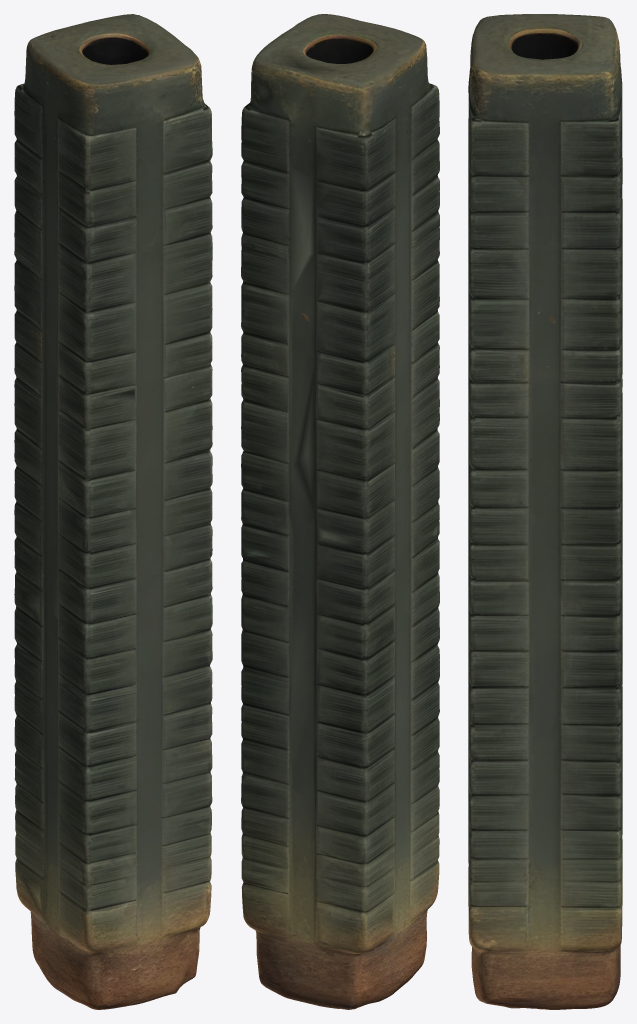
Rendered from liangzhu-tall-roaming.glb.
The picture shows the model from 3 angles, left to right: view 1: azimuth 30°, elevation 25°; view 2: azimuth 150°, elevation 25°; view 3: azimuth 270°, elevation 25°; orthographic projection.
Parts seen in each view (by area): view 1: node_0; view 2: node_0; view 3: node_0.
Part boxes in pixels (bbox=[...]): node_0: bbox=[14, 14, 212, 1009]; node_0: bbox=[241, 14, 439, 1009]; node_0: bbox=[468, 14, 622, 1009].
Bounding box in the file's own units: 0.1715 × 1.19 × 0.1754.
1 material, 1 textured.
